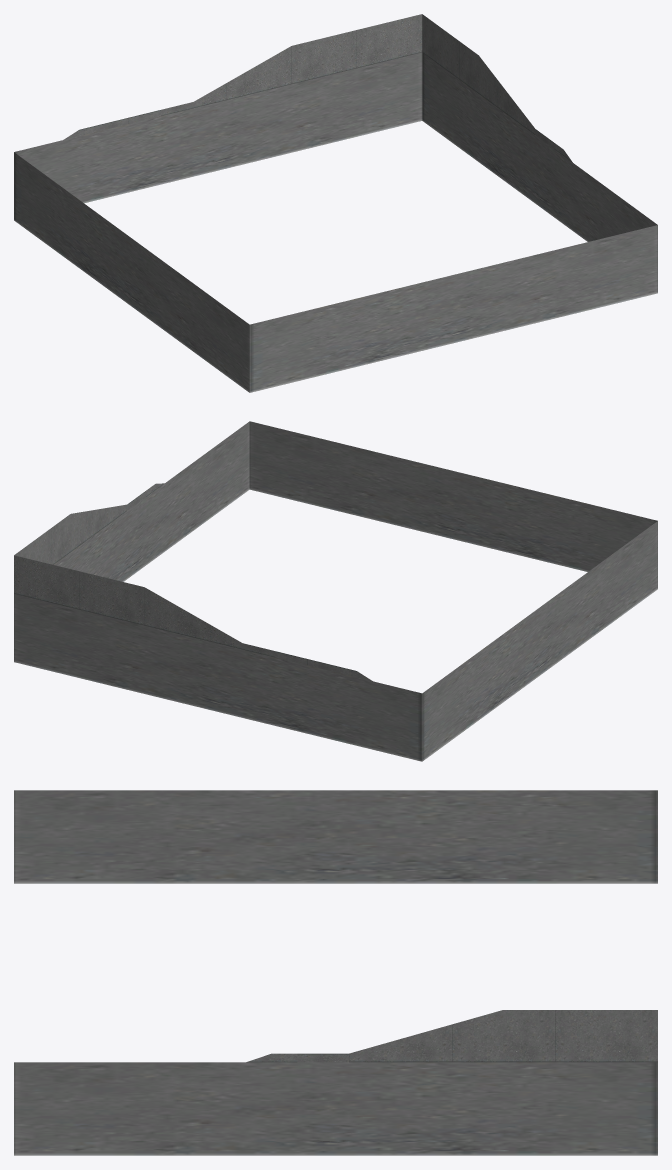
3 views of the same model, one above another, from view 1: azimuth 30°, elevation 25°; view 2: azimuth 150°, elevation 25°; view 3: azimuth 270°, elevation 25° (orthographic). The views are drawn at different scales.
Visible parts, largest first — view 1: Joint_0_Object_1, Joint_0_Object_2, Joint_0_Object_0; view 2: Joint_0_Object_1, Joint_0_Object_2, Joint_0_Object_0; view 3: Joint_0_Object_2, Joint_0_Object_0.
Boxes of the visible parts, x1,y1,x2,y2 form: Joint_0_Object_1: (14, 52, 657, 392); Joint_0_Object_2: (14, 53, 657, 392); Joint_0_Object_0: (63, 14, 572, 162); Joint_0_Object_1: (14, 421, 657, 761); Joint_0_Object_2: (54, 421, 657, 761); Joint_0_Object_0: (14, 483, 372, 681); Joint_0_Object_2: (14, 790, 657, 1155); Joint_0_Object_0: (246, 1010, 657, 1062).
Size of the model in its own units: 10000 by 2500 by 10000.
